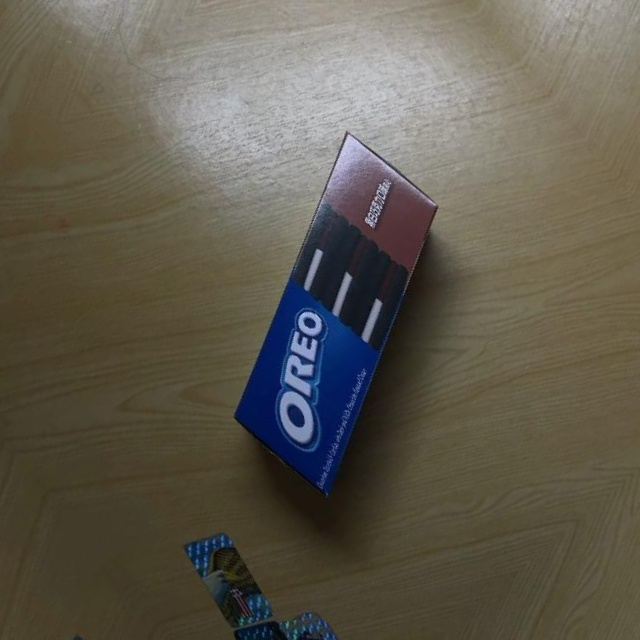Oreo: (140, 118, 539, 514)
